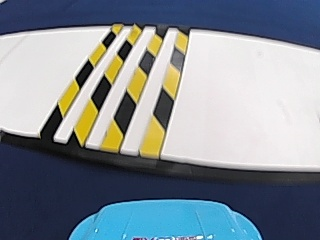bump: (43, 27, 192, 144)
